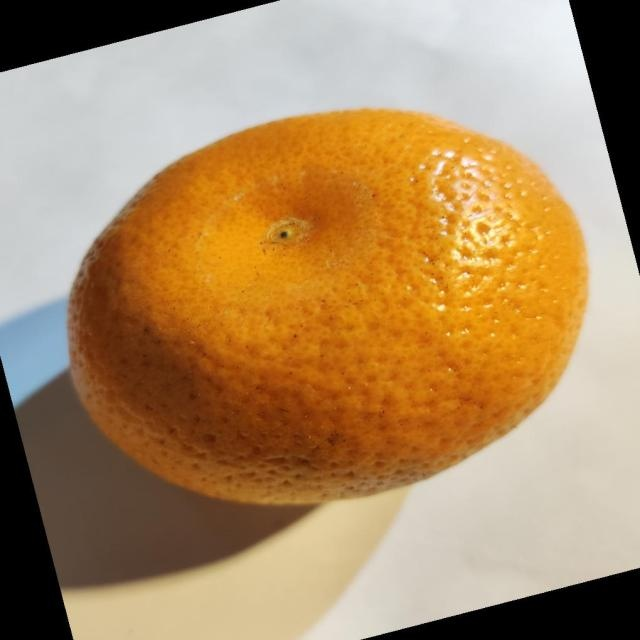agrume: (65, 106, 589, 508)
